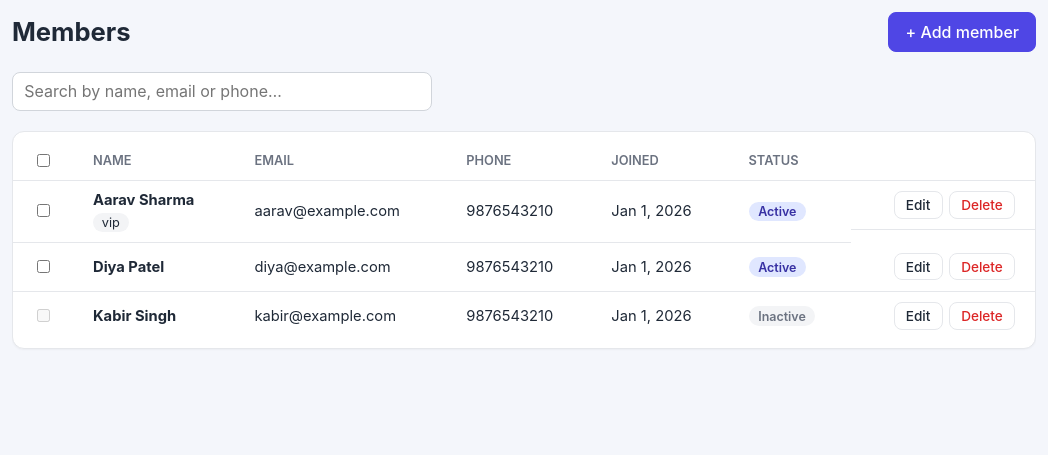
Test: MembersPage › selects active members with the master checkbox, ignoring inactive ones
Expected: the text "Aarav Sharma" is shown, top-left (93, 191), bottom-right (194, 209)
Click the checkbox named "Select all active members" at (44, 160), box top-left (37, 154), bottom-right (50, 167)
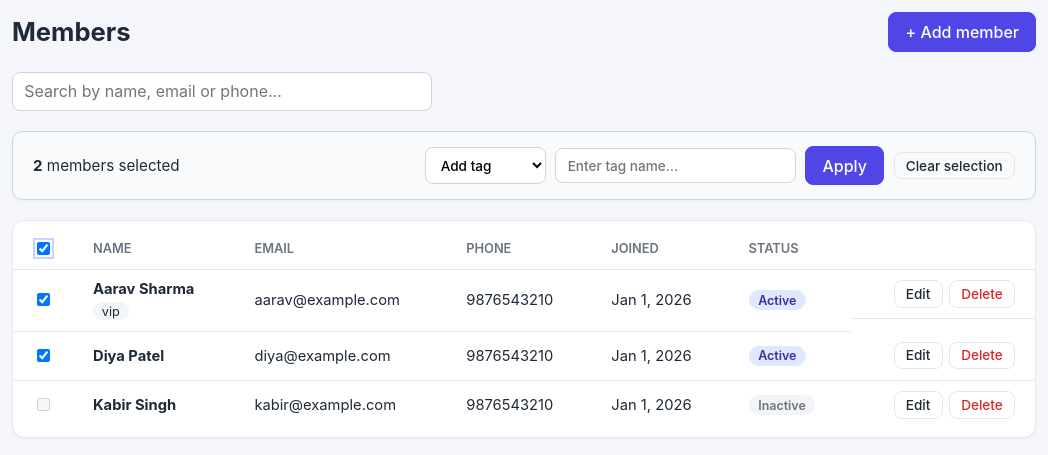
Now the checkbox named "Select Aarav Sharma" is checked, box top-left (37, 293), bottom-right (50, 306)
Now the checkbox named "Select Diya Patel" is checked, box top-left (37, 349), bottom-right (50, 362)
Now the text "2" is shown, box top-left (33, 156), bottom-right (43, 175)
# Clicking master checkbox again clears selection
Click the checkbox named "Select all active members" at (44, 249), box top-left (37, 242), bottom-right (50, 255)
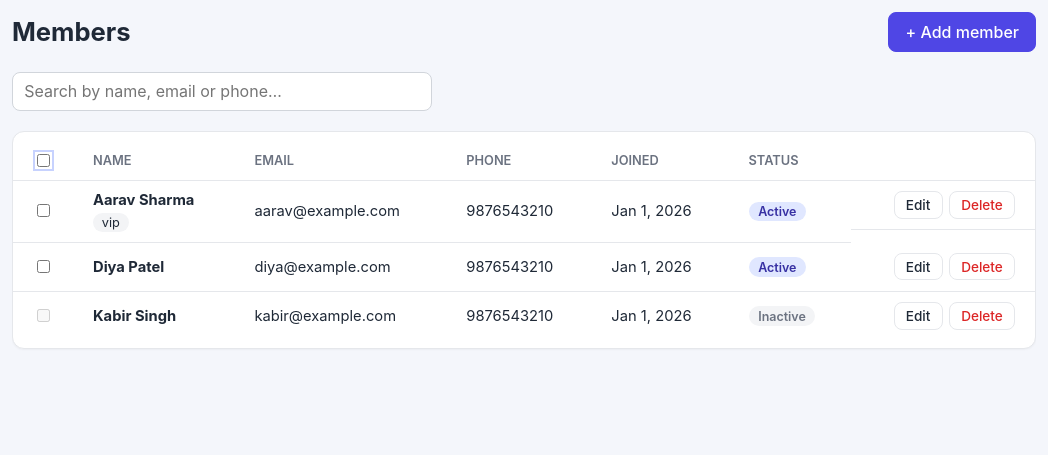
Now the checkbox named "Select Aarav Sharma" is not checked, box top-left (37, 204), bottom-right (50, 218)
Now the checkbox named "Select Diya Patel" is not checked, box top-left (37, 260), bottom-right (50, 273)
